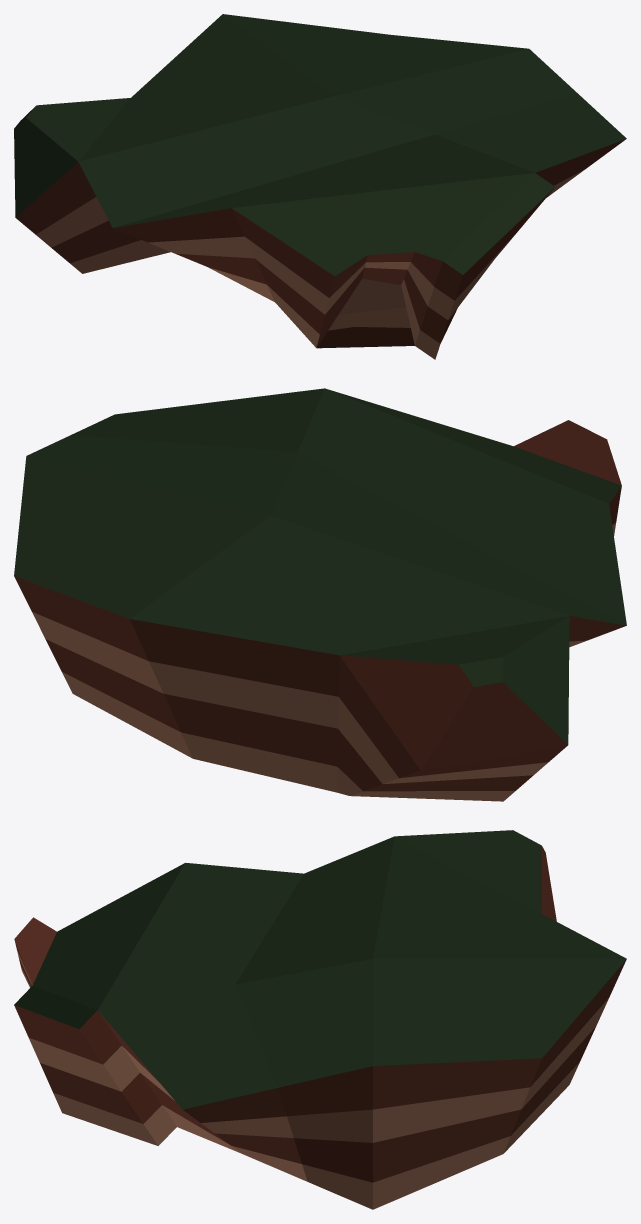
Rendered from chao2.fbx.
3 views of the same model, one above another, from view 1: azimuth 30°, elevation 25°; view 2: azimuth 150°, elevation 25°; view 3: azimuth 270°, elevation 25° (orthographic). The views are drawn at different scales.
Parts seen in each view (by area): view 1: Cube.001; view 2: Cube.001; view 3: Cube.001.
Part boxes in pixels (x1,y1,x2,y2): Cube.001: (14, 14, 626, 359); Cube.001: (14, 388, 626, 801); Cube.001: (14, 830, 626, 1209).
Size of the model in its own units: 501 by 184 by 483.
